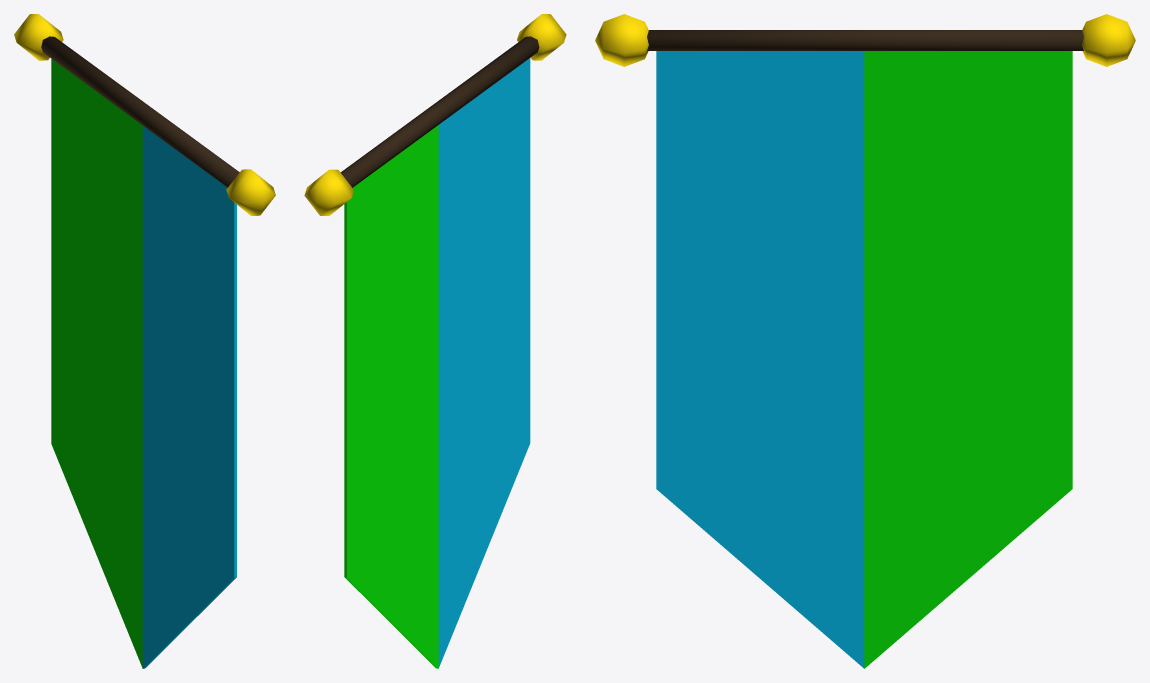
The model's file is Flag_5.fbx.
The picture shows the model from 3 angles, left to right: view 1: azimuth 30°, elevation 25°; view 2: azimuth 150°, elevation 25°; view 3: azimuth 270°, elevation 25°; orthographic projection. The views are drawn at different scales.
Visible parts, largest first — view 1: Flag_5; view 2: Flag_5; view 3: Flag_5.
Boxes of the visible parts, x1,y1,x2,y2 form: Flag_5: (14,14,275,668); Flag_5: (304,14,566,668); Flag_5: (595,14,1135,668).
Bounding box in the file's own units: 0.1188 × 1.47 × 1.1.
